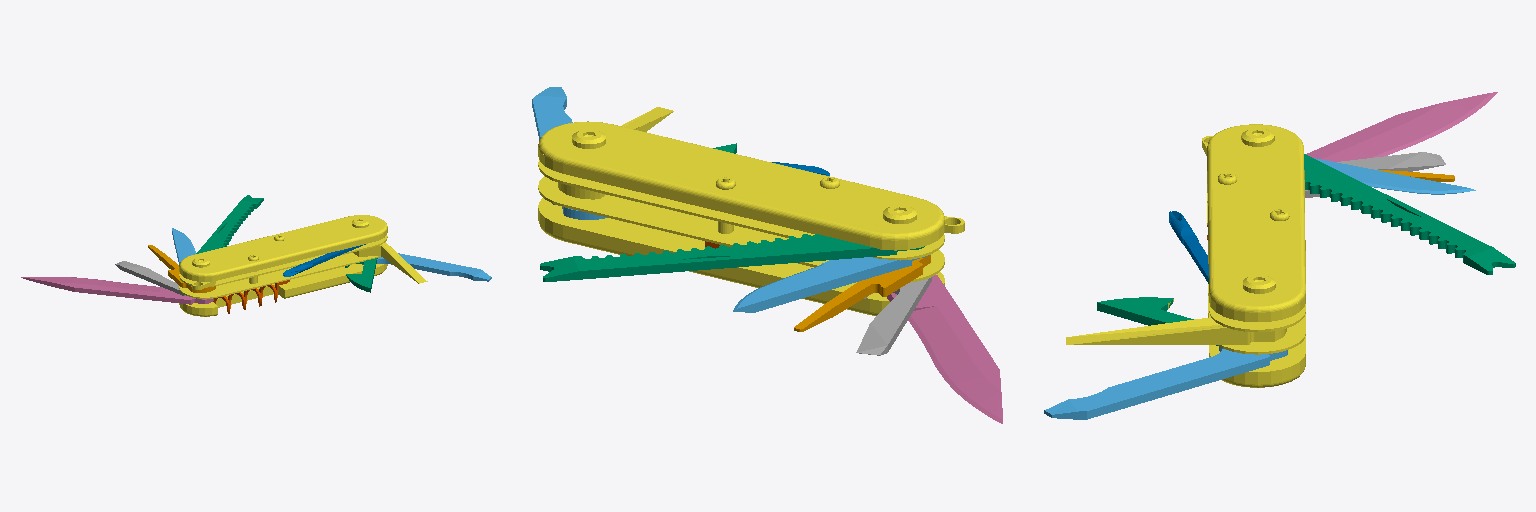
--- Render facts (derived) ---
3 views of the same robot in one strip: view 1: azimuth 30°, elevation 25°; view 2: azimuth 150°, elevation 25°; view 3: azimuth 270°, elevation 25° (orthographic).
Model partnet_u4a66a4a2-e061-4e17-b24d-4162d04032a5 with 12 links and 11 joints (10 revolute, 1 fixed), rooted at base, posed every joint at zero.
Links seen in each view (by area): view 1: link_10, link_5, link_9, link_0, link_2, link_6, link_1, link_7; view 2: link_10, link_9, link_5, link_8, link_6, link_7, link_0, link_2; view 3: link_10, link_9, link_0, link_5, link_2, link_8, link_1, link_6, link_3.
Boxes of the visible links, x1,y1,x2,y2 form: link_10: (179, 215, 387, 316); link_5: (21, 277, 213, 304); link_9: (196, 195, 263, 253); link_0: (362, 253, 491, 281); link_2: (353, 242, 427, 283); link_6: (115, 261, 196, 298); link_1: (345, 258, 377, 292); link_7: (148, 245, 215, 292); link_10: (538, 121, 964, 315); link_9: (540, 234, 924, 281); link_5: (887, 275, 1002, 423); link_8: (733, 255, 928, 312); link_6: (856, 277, 931, 355); link_7: (794, 255, 930, 331); link_0: (532, 87, 606, 219); link_2: (558, 107, 673, 199); link_10: (1168, 124, 1305, 387); link_9: (1304, 154, 1515, 274); link_0: (1044, 347, 1287, 419); link_5: (1306, 92, 1497, 161); link_2: (1066, 316, 1286, 344); link_8: (1314, 158, 1475, 194); link_1: (1097, 297, 1217, 345); link_6: (1305, 152, 1445, 197); link_3: (1169, 211, 1208, 283).
Size in the robot's own frame: 1.84 by 1.13 by 0.2544 metres.
Meshes: 110 distinct files referenced, 110 mesh visuals loaded (110 OBJ).

robot.urdf — partnet_u4a66a4a2-e061-4e17-b24d-4162d04032a5:
<?xml version="1.0" ?>
<robot name="partnet_u4a66a4a2-e061-4e17-b24d-4162d04032a5">
	<link name="base"/>
	<link name="link_0">
		<visual name="rotation_blade-1">
			<origin xyz="-0.010703543155122786 -0.11609877581711592 0.4344354670820575"/>
			<geometry>
				<mesh filename="textured_objs/original-68.obj"/>
			</geometry>
		</visual>
		<collision>
			<origin xyz="-0.010703543155122786 -0.11609877581711592 0.4344354670820575"/>
			<geometry>
				<mesh filename="textured_objs/original-68.obj"/>
			</geometry>
		</collision>
	</link>
	<joint name="joint_0" type="revolute">
		<origin xyz="0.010703543155122786 0.11609877581711592 -0.4344354670820575"/>
		<axis xyz="0 1 0"/>
		<child link="link_0"/>
		<parent link="link_10"/>
		<limit lower="-2.1865484868984955" upper="3.64424747816416"/>
	</joint>
	<link name="link_1">
		<visual name="rotation_blade-2">
			<origin xyz="-0.010703543155122786 -0.11609877581711592 0.4344354670820575"/>
			<geometry>
				<mesh filename="textured_objs/original-70.obj"/>
			</geometry>
		</visual>
		<collision>
			<origin xyz="-0.010703543155122786 -0.11609877581711592 0.4344354670820575"/>
			<geometry>
				<mesh filename="textured_objs/original-70.obj"/>
			</geometry>
		</collision>
	</link>
	<joint name="joint_1" type="revolute">
		<origin xyz="0.010703543155122786 0.11609877581711592 -0.4344354670820575"/>
		<axis xyz="0 1 0"/>
		<child link="link_1"/>
		<parent link="link_10"/>
		<limit lower="-0.8293804605477051" upper="4.806636759992383"/>
	</joint>
	<link name="link_2">
		<visual name="rotation_blade-3">
			<origin xyz="-0.010703543155122786 -0.11609877581711592 0.4344354670820575"/>
			<geometry>
				<mesh filename="textured_objs/original-67.obj"/>
			</geometry>
		</visual>
		<visual name="rotation_blade-3">
			<origin xyz="-0.010703543155122786 -0.11609877581711592 0.4344354670820575"/>
			<geometry>
				<mesh filename="textured_objs/original-65.obj"/>
			</geometry>
		</visual>
		<visual name="rotation_blade-3">
			<origin xyz="-0.010703543155122786 -0.11609877581711592 0.4344354670820575"/>
			<geometry>
				<mesh filename="textured_objs/original-66.obj"/>
			</geometry>
		</visual>
		<collision>
			<origin xyz="-0.010703543155122786 -0.11609877581711592 0.4344354670820575"/>
			<geometry>
				<mesh filename="textured_objs/original-67.obj"/>
			</geometry>
		</collision>
		<collision>
			<origin xyz="-0.010703543155122786 -0.11609877581711592 0.4344354670820575"/>
			<geometry>
				<mesh filename="textured_objs/original-65.obj"/>
			</geometry>
		</collision>
		<collision>
			<origin xyz="-0.010703543155122786 -0.11609877581711592 0.4344354670820575"/>
			<geometry>
				<mesh filename="textured_objs/original-66.obj"/>
			</geometry>
		</collision>
	</link>
	<joint name="joint_2" type="revolute">
		<origin xyz="0.010703543155122786 0.11609877581711592 -0.4344354670820575"/>
		<axis xyz="0 1 0"/>
		<child link="link_2"/>
		<parent link="link_10"/>
		<limit lower="-1.5770795121020764" upper="4.329114676646735"/>
	</joint>
	<link name="link_3">
		<visual name="rotation_blade-4">
			<origin xyz="-0.010703543155122786 -0.11609877581711592 0.4344354670820575"/>
			<geometry>
				<mesh filename="textured_objs/original-77.obj"/>
			</geometry>
		</visual>
		<visual name="rotation_blade-4">
			<origin xyz="-0.010703543155122786 -0.11609877581711592 0.4344354670820575"/>
			<geometry>
				<mesh filename="textured_objs/original-88.obj"/>
			</geometry>
		</visual>
		<visual name="rotation_blade-4">
			<origin xyz="-0.010703543155122786 -0.11609877581711592 0.4344354670820575"/>
			<geometry>
				<mesh filename="textured_objs/original-80.obj"/>
			</geometry>
		</visual>
		<visual name="rotation_blade-4">
			<origin xyz="-0.010703543155122786 -0.11609877581711592 0.4344354670820575"/>
			<geometry>
				<mesh filename="textured_objs/original-84.obj"/>
			</geometry>
		</visual>
		<visual name="rotation_blade-4">
			<origin xyz="-0.010703543155122786 -0.11609877581711592 0.4344354670820575"/>
			<geometry>
				<mesh filename="textured_objs/original-89.obj"/>
			</geometry>
		</visual>
		<visual name="rotation_blade-4">
			<origin xyz="-0.010703543155122786 -0.11609877581711592 0.4344354670820575"/>
			<geometry>
				<mesh filename="textured_objs/original-81.obj"/>
			</geometry>
		</visual>
		<visual name="rotation_blade-4">
			<origin xyz="-0.010703543155122786 -0.11609877581711592 0.4344354670820575"/>
			<geometry>
				<mesh filename="textured_objs/original-86.obj"/>
			</geometry>
		</visual>
		<visual name="rotation_blade-4">
			<origin xyz="-0.010703543155122786 -0.11609877581711592 0.4344354670820575"/>
			<geometry>
				<mesh filename="textured_objs/original-85.obj"/>
			</geometry>
		</visual>
		<visual name="rotation_blade-4">
			<origin xyz="-0.010703543155122786 -0.11609877581711592 0.4344354670820575"/>
			<geometry>
				<mesh filename="textured_objs/original-93.obj"/>
			</geometry>
		</visual>
		<visual name="rotation_blade-4">
			<origin xyz="-0.010703543155122786 -0.11609877581711592 0.4344354670820575"/>
			<geometry>
				<mesh filename="textured_objs/original-92.obj"/>
			</geometry>
		</visual>
		<visual name="rotation_blade-4">
			<origin xyz="-0.010703543155122786 -0.11609877581711592 0.4344354670820575"/>
			<geometry>
				<mesh filename="textured_objs/original-94.obj"/>
			</geometry>
		</visual>
		<visual name="rotation_blade-4">
			<origin xyz="-0.010703543155122786 -0.11609877581711592 0.4344354670820575"/>
			<geometry>
				<mesh filename="textured_objs/original-82.obj"/>
			</geometry>
		</visual>
		<visual name="rotation_blade-4">
			<origin xyz="-0.010703543155122786 -0.11609877581711592 0.4344354670820575"/>
			<geometry>
				<mesh filename="textured_objs/original-90.obj"/>
			</geometry>
		</visual>
		<visual name="rotation_blade-4">
			<origin xyz="-0.010703543155122786 -0.11609877581711592 0.4344354670820575"/>
			<geometry>
				<mesh filename="textured_objs/original-75.obj"/>
			</geometry>
		</visual>
		<visual name="rotation_blade-4">
			<origin xyz="-0.010703543155122786 -0.11609877581711592 0.4344354670820575"/>
			<geometry>
				<mesh filename="textured_objs/original-76.obj"/>
			</geometry>
		</visual>
		<visual name="rotation_blade-4">
			<origin xyz="-0.010703543155122786 -0.11609877581711592 0.4344354670820575"/>
			<geometry>
				<mesh filename="textured_objs/original-78.obj"/>
			</geometry>
		</visual>
		<collision>
			<origin xyz="-0.010703543155122786 -0.11609877581711592 0.4344354670820575"/>
			<geometry>
				<mesh filename="textured_objs/original-77.obj"/>
			</geometry>
		</collision>
		<collision>
			<origin xyz="-0.010703543155122786 -0.11609877581711592 0.4344354670820575"/>
			<geometry>
				<mesh filename="textured_objs/original-88.obj"/>
			</geometry>
		</collision>
		<collision>
			<origin xyz="-0.010703543155122786 -0.11609877581711592 0.4344354670820575"/>
			<geometry>
				<mesh filename="textured_objs/original-80.obj"/>
			</geometry>
		</collision>
		<collision>
			<origin xyz="-0.010703543155122786 -0.11609877581711592 0.4344354670820575"/>
			<geometry>
				<mesh filename="textured_objs/original-84.obj"/>
			</geometry>
		</collision>
		<collision>
			<origin xyz="-0.010703543155122786 -0.11609877581711592 0.4344354670820575"/>
			<geometry>
				<mesh filename="textured_objs/original-89.obj"/>
			</geometry>
		</collision>
		<collision>
			<origin xyz="-0.010703543155122786 -0.11609877581711592 0.4344354670820575"/>
			<geometry>
				<mesh filename="textured_objs/original-81.obj"/>
			</geometry>
		</collision>
		<collision>
			<origin xyz="-0.010703543155122786 -0.11609877581711592 0.4344354670820575"/>
			<geometry>
				<mesh filename="textured_objs/original-86.obj"/>
			</geometry>
		</collision>
		<collision>
			<origin xyz="-0.010703543155122786 -0.11609877581711592 0.4344354670820575"/>
			<geometry>
				<mesh filename="textured_objs/original-85.obj"/>
			</geometry>
		</collision>
		<collision>
			<origin xyz="-0.010703543155122786 -0.11609877581711592 0.4344354670820575"/>
			<geometry>
				<mesh filename="textured_objs/original-93.obj"/>
			</geometry>
		</collision>
		<collision>
			<origin xyz="-0.010703543155122786 -0.11609877581711592 0.4344354670820575"/>
			<geometry>
				<mesh filename="textured_objs/original-92.obj"/>
			</geometry>
		</collision>
		<collision>
			<origin xyz="-0.010703543155122786 -0.11609877581711592 0.4344354670820575"/>
			<geometry>
				<mesh filename="textured_objs/original-94.obj"/>
			</geometry>
		</collision>
		<collision>
			<origin xyz="-0.010703543155122786 -0.11609877581711592 0.4344354670820575"/>
			<geometry>
				<mesh filename="textured_objs/original-82.obj"/>
			</geometry>
		</collision>
		<collision>
			<origin xyz="-0.010703543155122786 -0.11609877581711592 0.4344354670820575"/>
			<geometry>
				<mesh filename="textured_objs/original-90.obj"/>
			</geometry>
		</collision>
		<collision>
			<origin xyz="-0.010703543155122786 -0.11609877581711592 0.4344354670820575"/>
			<geometry>
				<mesh filename="textured_objs/original-75.obj"/>
			</geometry>
		</collision>
		<collision>
			<origin xyz="-0.010703543155122786 -0.11609877581711592 0.4344354670820575"/>
			<geometry>
				<mesh filename="textured_objs/original-76.obj"/>
			</geometry>
		</collision>
		<collision>
			<origin xyz="-0.010703543155122786 -0.11609877581711592 0.4344354670820575"/>
			<geometry>
				<mesh filename="textured_objs/original-78.obj"/>
			</geometry>
		</collision>
	</link>
	<joint name="joint_3" type="revolute">
		<origin xyz="0.010703543155122786 0.11609877581711592 -0.4344354670820575"/>
		<axis xyz="0 1 0"/>
		<child link="link_3"/>
		<parent link="link_10"/>
		<limit lower="-0.20106192982974644" upper="5.610884479311371"/>
	</joint>
	<link name="link_4">
		<visual name="rotation_blade-5">
			<origin xyz="-0.08796387043165478 -0.10736199999999996 -0.04137884662214304"/>
			<geometry>
				<mesh filename="textured_objs/original-148.obj"/>
			</geometry>
		</visual>
		<visual name="rotation_blade-5">
			<origin xyz="-0.08796387043165478 -0.10736199999999996 -0.04137884662214304"/>
			<geometry>
				<mesh filename="textured_objs/original-150.obj"/>
			</geometry>
		</visual>
		<visual name="rotation_blade-5">
			<origin xyz="-0.08796387043165478 -0.10736199999999996 -0.04137884662214304"/>
			<geometry>
				<mesh filename="textured_objs/original-146.obj"/>
			</geometry>
		</visual>
		<collision>
			<origin xyz="-0.08796387043165478 -0.10736199999999996 -0.04137884662214304"/>
			<geometry>
				<mesh filename="textured_objs/original-148.obj"/>
			</geometry>
		</collision>
		<collision>
			<origin xyz="-0.08796387043165478 -0.10736199999999996 -0.04137884662214304"/>
			<geometry>
				<mesh filename="textured_objs/original-150.obj"/>
			</geometry>
		</collision>
		<collision>
			<origin xyz="-0.08796387043165478 -0.10736199999999996 -0.04137884662214304"/>
			<geometry>
				<mesh filename="textured_objs/original-146.obj"/>
			</geometry>
		</collision>
	</link>
	<joint name="joint_4" type="revolute">
		<origin xyz="0.08796387043165478 0.10736199999999996 0.04137884662214304"/>
		<axis xyz="0 1 0"/>
		<child link="link_4"/>
		<parent link="link_10"/>
		<limit lower="0.0" upper="1.5770795121020762"/>
	</joint>
	<link name="link_5">
		<visual name="rotation_blade-6">
			<origin xyz="-0.029843567787811942 -0.11647833007907682 -0.4003582692421145"/>
			<geometry>
				<mesh filename="textured_objs/original-14.obj"/>
			</geometry>
		</visual>
		<visual name="rotation_blade-6">
			<origin xyz="-0.029843567787811942 -0.11647833007907682 -0.4003582692421145"/>
			<geometry>
				<mesh filename="textured_objs/original-15.obj"/>
			</geometry>
		</visual>
		<collision>
			<origin xyz="-0.029843567787811942 -0.11647833007907682 -0.4003582692421145"/>
			<geometry>
				<mesh filename="textured_objs/original-14.obj"/>
			</geometry>
		</collision>
		<collision>
			<origin xyz="-0.029843567787811942 -0.11647833007907682 -0.4003582692421145"/>
			<geometry>
				<mesh filename="textured_objs/original-15.obj"/>
			</geometry>
		</collision>
	</link>
	<joint name="joint_5" type="revolute">
		<origin xyz="0.029843567787811942 0.11647833007907682 0.4003582692421145"/>
		<axis xyz="0 1 0"/>
		<child link="link_5"/>
		<parent link="link_10"/>
		<limit lower="-2.2870794518133692" upper="2.086017521983623"/>
	</joint>
	<link name="link_6">
		<visual name="rotation_blade-7">
			<origin xyz="-0.029843567787811942 -0.11647833007907682 -0.4003582692421145"/>
			<geometry>
				<mesh filename="textured_objs/original-11.obj"/>
			</geometry>
		</visual>
		<collision>
			<origin xyz="-0.029843567787811942 -0.11647833007907682 -0.4003582692421145"/>
			<geometry>
				<mesh filename="textured_objs/original-11.obj"/>
			</geometry>
		</collision>
	</link>
	<joint name="joint_6" type="revolute">
		<origin xyz="0.029843567787811942 0.11647833007907682 0.4003582692421145"/>
		<axis xyz="0 1 0"/>
		<child link="link_6"/>
		<parent link="link_10"/>
		<limit lower="-1.7592918860102844" upper="2.086017521983623"/>
	</joint>
	<link name="link_7">
		<visual name="rotation_blade-8">
			<origin xyz="-0.029843567787811942 -0.11647833007907682 -0.4003582692421145"/>
			<geometry>
				<mesh filename="textured_objs/original-9.obj"/>
			</geometry>
		</visual>
		<collision>
			<origin xyz="-0.029843567787811942 -0.11647833007907682 -0.4003582692421145"/>
			<geometry>
				<mesh filename="textured_objs/original-9.obj"/>
			</geometry>
		</collision>
	</link>
	<joint name="joint_7" type="revolute">
		<origin xyz="0.029843567787811942 0.11647833007907682 0.4003582692421145"/>
		<axis xyz="0 1 0"/>
		<child link="link_7"/>
		<parent link="link_10"/>
		<limit lower="-1.306902543893354" upper="4.1469023027385274"/>
	</joint>
	<link name="link_8">
		<visual name="rotation_blade-9">
			<origin xyz="-0.029843567787811942 -0.11647833007907682 -0.4003582692421145"/>
			<geometry>
				<mesh filename="textured_objs/original-7.obj"/>
			</geometry>
		</visual>
		<visual name="rotation_blade-9">
			<origin xyz="-0.029843567787811942 -0.11647833007907682 -0.4003582692421145"/>
			<geometry>
				<mesh filename="textured_objs/original-8.obj"/>
			</geometry>
		</visual>
		<collision>
			<origin xyz="-0.029843567787811942 -0.11647833007907682 -0.4003582692421145"/>
			<geometry>
				<mesh filename="textured_objs/original-7.obj"/>
			</geometry>
		</collision>
		<collision>
			<origin xyz="-0.029843567787811942 -0.11647833007907682 -0.4003582692421145"/>
			<geometry>
				<mesh filename="textured_objs/original-8.obj"/>
			</geometry>
		</collision>
	</link>
	<joint name="joint_8" type="revolute">
		<origin xyz="0.029843567787811942 0.11647833007907682 0.4003582692421145"/>
		<axis xyz="0 1 0"/>
		<child link="link_8"/>
		<parent link="link_10"/>
		<limit lower="-1.0995574287564276" upper="4.341681047261094"/>
	</joint>
	<link name="link_9">
		<visual name="rotation_blade-10">
			<origin xyz="-0.029843567787811942 -0.11647833007907682 -0.4003582692421145"/>
			<geometry>
				<mesh filename="textured_objs/original-4.obj"/>
			</geometry>
		</visual>
		<visual name="rotation_blade-10">
			<origin xyz="-0.029843567787811942 -0.11647833007907682 -0.4003582692421145"/>
			<geometry>
				<mesh filename="textured_objs/original-5.obj"/>
			</geometry>
		</visual>
		<collision>
			<origin xyz="-0.029843567787811942 -0.11647833007907682 -0.4003582692421145"/>
			<geometry>
				<mesh filename="textured_objs/original-4.obj"/>
			</geometry>
		</collision>
		<collision>
			<origin xyz="-0.029843567787811942 -0.11647833007907682 -0.4003582692421145"/>
			<geometry>
				<mesh filename="textured_objs/original-5.obj"/>
			</geometry>
		</collision>
	</link>
	<joint name="joint_9" type="revolute">
		<origin xyz="0.029843567787811942 0.11647833007907682 0.4003582692421145"/>
		<axis xyz="0 1 0"/>
		<child link="link_9"/>
		<parent link="link_10"/>
		<limit lower="-0.7539822368615502" upper="4.894601354292898"/>
	</joint>
	<link name="link_10">
		<visual name="base_body-11">
			<origin xyz="0 0 0"/>
			<geometry>
				<mesh filename="textured_objs/original-29.obj"/>
			</geometry>
		</visual>
		<visual name="base_body-11">
			<origin xyz="0 0 0"/>
			<geometry>
				<mesh filename="textured_objs/original-103.obj"/>
			</geometry>
		</visual>
		<visual name="base_body-11">
			<origin xyz="0 0 0"/>
			<geometry>
				<mesh filename="textured_objs/original-123.obj"/>
			</geometry>
		</visual>
		<visual name="base_body-11">
			<origin xyz="0 0 0"/>
			<geometry>
				<mesh filename="textured_objs/original-21.obj"/>
			</geometry>
		</visual>
		<visual name="base_body-11">
			<origin xyz="0 0 0"/>
			<geometry>
				<mesh filename="textured_objs/original-30.obj"/>
			</geometry>
		</visual>
		<visual name="base_body-11">
			<origin xyz="0 0 0"/>
			<geometry>
				<mesh filename="textured_objs/original-36.obj"/>
			</geometry>
		</visual>
		<visual name="base_body-11">
			<origin xyz="0 0 0"/>
			<geometry>
				<mesh filename="textured_objs/original-119.obj"/>
			</geometry>
		</visual>
		<visual name="base_body-11">
			<origin xyz="0 0 0"/>
			<geometry>
				<mesh filename="textured_objs/original-124.obj"/>
			</geometry>
		</visual>
		<visual name="base_body-11">
			<origin xyz="0 0 0"/>
			<geometry>
				<mesh filename="textured_objs/original-96.obj"/>
			</geometry>
		</visual>
		<visual name="base_body-11">
			<origin xyz="0 0 0"/>
			<geometry>
				<mesh filename="textured_objs/original-134.obj"/>
			</geometry>
		</visual>
		<visual name="base_body-11">
			<origin xyz="0 0 0"/>
			<geometry>
				<mesh filename="textured_objs/original-43.obj"/>
			</geometry>
		</visual>
		<visual name="base_body-11">
			<origin xyz="0 0 0"/>
			<geometry>
				<mesh filename="textured_objs/original-71.obj"/>
			</geometry>
		</visual>
		<visual name="base_body-11">
			<origin xyz="0 0 0"/>
			<geometry>
				<mesh filename="textured_objs/original-52.obj"/>
			</geometry>
		</visual>
		<visual name="base_body-11">
			<origin xyz="0 0 0"/>
			<geometry>
				<mesh filename="textured_objs/original-26.obj"/>
			</geometry>
		</visual>
		<visual name="base_body-11">
			<origin xyz="0 0 0"/>
			<geometry>
				<mesh filename="textured_objs/original-117.obj"/>
			</geometry>
		</visual>
		<visual name="base_body-11">
			<origin xyz="0 0 0"/>
			<geometry>
				<mesh filename="textured_objs/original-110.obj"/>
			</geometry>
		</visual>
		<visual name="base_body-11">
			<origin xyz="0 0 0"/>
			<geometry>
				<mesh filename="textured_objs/original-107.obj"/>
			</geometry>
		</visual>
		<visual name="base_body-11">
			<origin xyz="0 0 0"/>
			<geometry>
				<mesh filename="textured_objs/original-104.obj"/>
			</geometry>
		</visual>
		<visual name="base_body-11">
			<origin xyz="0 0 0"/>
			<geometry>
				<mesh filename="textured_objs/original-149.obj"/>
			</geometry>
		</visual>
		<visual name="base_body-11">
			<origin xyz="0 0 0"/>
			<geometry>
				<mesh filename="textured_objs/original-128.obj"/>
			</geometry>
		</visual>
		<visual name="base_body-11">
			<origin xyz="0 0 0"/>
			<geometry>
				<mesh filename="textured_objs/original-33.obj"/>
			</geometry>
		</visual>
		<visual name="base_body-11">
			<origin xyz="0 0 0"/>
			<geometry>
				<mesh filename="textured_objs/original-130.obj"/>
			</geometry>
		</visual>
		<visual name="base_body-11">
			<origin xyz="0 0 0"/>
			<geometry>
				<mesh filename="textured_objs/original-137.obj"/>
			</geometry>
		</visual>
		<visual name="base_body-11">
			<origin xyz="0 0 0"/>
			<geometry>
				<mesh filename="textured_objs/original-139.obj"/>
			</geometry>
		</visual>
		<visual name="base_body-11">
			<origin xyz="0 0 0"/>
			<geometry>
				<mesh filename="textured_objs/original-112.obj"/>
			</geometry>
		</visual>
		<visual name="base_body-11">
			<origin xyz="0 0 0"/>
			<geometry>
				<mesh filename="textured_objs/original-106.obj"/>
			</geometry>
		</visual>
		<visual name="base_body-11">
			<origin xyz="0 0 0"/>
			<geometry>
				<mesh filename="textured_objs/original-140.obj"/>
			</geometry>
		</visual>
		<visual name="base_body-11">
			<origin xyz="0 0 0"/>
			<geometry>
				<mesh filename="textured_objs/original-147.obj"/>
			</geometry>
		</visual>
		<visual name="base_body-11">
			<origin xyz="0 0 0"/>
			<geometry>
				<mesh filename="textured_objs/original-109.obj"/>
			</geometry>
		</visual>
		<visual name="base_body-11">
			<origin xyz="0 0 0"/>
			<geometry>
				<mesh filename="textured_objs/original-125.obj"/>
			</geometry>
		</visual>
		<visual name="base_body-11">
			<origin xyz="0 0 0"/>
			<geometry>
				<mesh filename="textured_objs/original-45.obj"/>
			</geometry>
		</visual>
		<visual name="base_body-11">
			<origin xyz="0 0 0"/>
			<geometry>
				<mesh filename="textured_objs/original-138.obj"/>
			</geometry>
		</visual>
		<visual name="base_body-11">
			<origin xyz="0 0 0"/>
			<geometry>
				<mesh filename="textured_objs/original-49.obj"/>
			</geometry>
		</visual>
		<visual name="base_body-11">
			<origin xyz="0 0 0"/>
			<geometry>
				<mesh filename="textured_objs/original-61.obj"/>
			</geometry>
		</visual>
		<visual name="base_body-11">
			<origin xyz="0 0 0"/>
			<geometry>
				<mesh filename="textured_objs/original-144.obj"/>
			</geometry>
		</visual>
		<visual name="base_body-11">
			<origin xyz="0 0 0"/>
			<geometry>
				<mesh filename="textured_objs/original-39.obj"/>
			</geometry>
		</visual>
		<visual name="base_body-11">
			<origin xyz="0 0 0"/>
			<geometry>
				<mesh filename="textured_objs/original-120.obj"/>
			</geometry>
		</visual>
		<visual name="base_body-11">
			<origin xyz="0 0 0"/>
			<geometry>
				<mesh filename="textured_objs/original-114.obj"/>
			</geometry>
		</visual>
		<visual name="base_body-11">
			<origin xyz="0 0 0"/>
			<geometry>
				<mesh filename="textured_objs/original-54.obj"/>
			</geometry>
		</visual>
		<visual name="base_body-11">
			<origin xyz="0 0 0"/>
			<geometry>
				<mesh filename="textured_objs/original-63.obj"/>
			</geometry>
		</visual>
		<visual name="base_body-11">
			<origin xyz="0 0 0"/>
			<geometry>
				<mesh filename="textured_objs/original-27.obj"/>
			</geometry>
		</visual>
		<visual name="base_body-11">
			<origin xyz="0 0 0"/>
			<geometry>
				<mesh filename="textured_objs/original-51.obj"/>
			</geometry>
		</visual>
		<visual name="base_body-11">
			<origin xyz="0 0 0"/>
			<geometry>
				<mesh filename="textured_objs/original-55.obj"/>
			</geometry>
		</visual>
		<visual name="base_body-11">
			<origin xyz="0 0 0"/>
			<geometry>
				<mesh filename="textured_objs/original-141.obj"/>
			</geometry>
		</visual>
		<visual name="base_body-11">
			<origin xyz="0 0 0"/>
			<geometry>
				<mesh filename="textured_objs/original-111.obj"/>
			</geometry>
		</visual>
		<visual name="base_body-11">
			<origin xyz="0 0 0"/>
			<geometry>
				<mesh filename="textured_objs/original-37.obj"/>
			</geometry>
		</visual>
		<visual name="base_body-11">
			<origin xyz="0 0 0"/>
			<geometry>
				<mesh filename="textured_objs/original-48.obj"/>
			</geometry>
		</visual>
		<visual name="base_body-11">
			<origin xyz="0 0 0"/>
			<geometry>
				<mesh filename="textured_objs/original-116.obj"/>
			</geometry>
		</visual>
		<visual name="base_body-11">
			<origin xyz="0 0 0"/>
			<geometry>
				<mesh filename="textured_objs/original-122.obj"/>
			</geometry>
		</visual>
		<visual name="base_body-11">
			<origin xyz="0 0 0"/>
			<geometry>
				<mesh filename="textured_objs/original-72.obj"/>
			</geometry>
		</visual>
		<visual name="base_body-11">
			<origin xyz="0 0 0"/>
			<geometry>
				<mesh filename="textured_objs/original-99.obj"/>
			</geometry>
		</visual>
		<visual name="base_body-11">
			<origin xyz="0 0 0"/>
			<geometry>
				<mesh filename="textured_objs/original-136.obj"/>
			</geometry>
		</visual>
		<visual name="base_body-11">
			<origin xyz="0 0 0"/>
			<geometry>
				<mesh filename="textured_objs/original-127.obj"/>
			</geometry>
		</visual>
		<visual name="base_body-11">
			<origin xyz="0 0 0"/>
			<geometry>
				<mesh filename="textured_objs/original-62.obj"/>
			</geometry>
		</visual>
		<visual name="base_body-11">
			<origin xyz="0 0 0"/>
			<geometry>
				<mesh filename="textured_objs/original-133.obj"/>
			</geometry>
		</visual>
		<visual name="base_body-11">
			<origin xyz="0 0 0"/>
			<geometry>
				<mesh filename="textured_objs/original-23.obj"/>
			</geometry>
		</visual>
		<visual name="base_body-11">
			<origin xyz="0 0 0"/>
			<geometry>
				<mesh filename="textured_objs/original-58.obj"/>
			</geometry>
		</visual>
		<visual name="base_body-11">
			<origin xyz="0 0 0"/>
			<geometry>
				<mesh filename="textured_objs/original-98.obj"/>
			</geometry>
		</visual>
		<visual name="base_body-11">
			<origin xyz="0 0 0"/>
			<geometry>
				<mesh filename="textured_objs/original-131.obj"/>
			</geometry>
		</visual>
		<visual name="base_body-11">
			<origin xyz="0 0 0"/>
			<geometry>
				<mesh filename="textured_objs/original-18.obj"/>
			</geometry>
		</visual>
		<visual name="base_body-11">
			<origin xyz="0 0 0"/>
			<geometry>
				<mesh filename="textured_objs/original-17.obj"/>
			</geometry>
		</visual>
		<visual name="base_body-11">
			<origin xyz="0 0 0"/>
			<geometry>
				<mesh filename="textured_objs/original-73.obj"/>
			</geometry>
		</visual>
		<visual name="base_body-11">
			<origin xyz="0 0 0"/>
			<geometry>
				<mesh filename="textured_objs/original-12.obj"/>
			</geometry>
		</visual>
		<visual name="base_body-11">
			<origin xyz="0 0 0"/>
			<geometry>
				<mesh filename="textured_objs/original-142.obj"/>
			</geometry>
		</visual>
		<visual name="base_body-11">
			<origin xyz="0 0 0"/>
			<geometry>
				<mesh filename="textured_objs/original-42.obj"/>
			</geometry>
		</visual>
		<visual name="base_body-11">
			<origin xyz="0 0 0"/>
			<geometry>
				<mesh filename="textured_objs/original-102.obj"/>
			</geometry>
		</visual>
		<visual name="base_body-11">
			<origin xyz="0 0 0"/>
			<geometry>
				<mesh filename="textured_objs/original-24.obj"/>
			</geometry>
		</visual>
		<visual name="base_body-11">
			<origin xyz="0 0 0"/>
			<geometry>
				<mesh filename="textured_objs/original-20.obj"/>
			</geometry>
		</visual>
		<visual name="base_body-11">
			<origin xyz="0 0 0"/>
			<geometry>
				<mesh filename="textured_objs/original-115.obj"/>
			</geometry>
		</visual>
		<visual name="base_body-11">
			<origin xyz="0 0 0"/>
			<geometry>
				<mesh filename="textured_objs/original-32.obj"/>
			</geometry>
		</visual>
		<visual name="base_body-11">
			<origin xyz="0 0 0"/>
			<geometry>
				<mesh filename="textured_objs/original-101.obj"/>
			</geometry>
		</visual>
		<visual name="base_body-11">
			<origin xyz="0 0 0"/>
			<geometry>
				<mesh filename="textured_objs/original-121.obj"/>
			</geometry>
		</visual>
		<visual name="base_body-11">
			<origin xyz="0 0 0"/>
			<geometry>
				<mesh filename="textured_objs/original-97.obj"/>
			</geometry>
		</visual>
		<visual name="base_body-11">
			<origin xyz="0 0 0"/>
			<geometry>
				<mesh filename="textured_objs/original-60.obj"/>
			</geometry>
		</visual>
		<visual name="base_body-11">
			<origin xyz="0 0 0"/>
			<geometry>
				<mesh filename="textured_objs/original-40.obj"/>
			</geometry>
		</visual>
		<visual name="base_body-11">
			<origin xyz="0 0 0"/>
			<geometry>
				<mesh filename="textured_objs/original-143.obj"/>
			</geometry>
		</visual>
		<visual name="base_body-11">
			<origin xyz="0 0 0"/>
			<geometry>
				<mesh filename="textured_objs/original-46.obj"/>
			</geometry>
		</visual>
		<visual name="base_body-11">
			<origin xyz="0 0 0"/>
			<geometry>
				<mesh filename="textured_objs/original-57.obj"/>
			</geometry>
		</visual>
		<collision>
			<origin xyz="0 0 0"/>
			<geometry>
				<mesh filename="textured_objs/original-29.obj"/>
			</geometry>
		</collision>
		<collision>
			<origin xyz="0 0 0"/>
			<geometry>
				<mesh filename="textured_objs/original-103.obj"/>
			</geometry>
		</collision>
		<collision>
			<origin xyz="0 0 0"/>
			<geometry>
				<mesh filename="textured_objs/original-123.obj"/>
			</geometry>
		</collision>
		<collision>
			<origin xyz="0 0 0"/>
			<geometry>
				<mesh filename="textured_objs/original-21.obj"/>
			</geometry>
		</collision>
		<collision>
			<origin xyz="0 0 0"/>
			<geometry>
				<mesh filename="textured_objs/original-30.obj"/>
			</geometry>
		</collision>
		<collision>
			<origin xyz="0 0 0"/>
			<geometry>
				<mesh filename="textured_objs/original-36.obj"/>
			</geometry>
		</collision>
		<collision>
			<origin xyz="0 0 0"/>
			<geometry>
				<mesh filename="textured_objs/original-119.obj"/>
			</geometry>
		</collision>
		<collision>
			<origin xyz="0 0 0"/>
			<geometry>
				<mesh filename="textured_objs/original-124.obj"/>
			</geometry>
		</collision>
		<collision>
			<origin xyz="0 0 0"/>
			<geometry>
				<mesh filename="textured_objs/original-96.obj"/>
			</geometry>
		</collision>
		<collision>
			<origin xyz="0 0 0"/>
			<geometry>
				<mesh filename="textured_objs/original-134.obj"/>
			</geometry>
		</collision>
		<collision>
			<origin xyz="0 0 0"/>
			<geometry>
				<mesh filename="textured_objs/original-43.obj"/>
			</geometry>
		</collision>
		<collision>
			<origin xyz="0 0 0"/>
			<geometry>
				<mesh filename="textured_objs/original-71.obj"/>
			</geometry>
		</collision>
		<collision>
			<origin xyz="0 0 0"/>
			<geometry>
				<mesh filename="textured_objs/original-52.obj"/>
			</geometry>
		</collision>
		<collision>
			<origin xyz="0 0 0"/>
			<geometry>
				<mesh filename="textured_objs/original-26.obj"/>
			</geometry>
		</collision>
		<collision>
			<origin xyz="0 0 0"/>
			<geometry>
				<mesh filename="textured_objs/original-117.obj"/>
			</geometry>
		</collision>
		<collision>
			<origin xyz="0 0 0"/>
			<geometry>
				<mesh filename="textured_objs/original-110.obj"/>
			</geometry>
		</collision>
		<collision>
			<origin xyz="0 0 0"/>
			<geometry>
				<mesh filename="textured_objs/original-107.obj"/>
			</geometry>
		</collision>
		<collision>
			<origin xyz="0 0 0"/>
			<geometry>
				<mesh filename="textured_objs/original-104.obj"/>
			</geometry>
		</collision>
		<collision>
			<origin xyz="0 0 0"/>
			<geometry>
				<mesh filename="textured_objs/original-149.obj"/>
			</geometry>
		</collision>
		<collision>
			<origin xyz="0 0 0"/>
			<geometry>
				<mesh filename="textured_objs/original-128.obj"/>
			</geometry>
		</collision>
		<collision>
			<origin xyz="0 0 0"/>
			<geometry>
				<mesh filename="textured_objs/original-33.obj"/>
			</geometry>
		</collision>
		<collision>
			<origin xyz="0 0 0"/>
			<geometry>
				<mesh filename="textured_objs/original-130.obj"/>
			</geometry>
		</collision>
		<collision>
			<origin xyz="0 0 0"/>
			<geometry>
				<mesh filename="textured_objs/original-137.obj"/>
			</geometry>
		</collision>
		<collision>
			<origin xyz="0 0 0"/>
			<geometry>
				<mesh filename="textured_objs/original-139.obj"/>
			</geometry>
		</collision>
		<collision>
			<origin xyz="0 0 0"/>
			<geometry>
				<mesh filename="textured_objs/original-112.obj"/>
			</geometry>
		</collision>
		<collision>
			<origin xyz="0 0 0"/>
			<geometry>
				<mesh filename="textured_objs/original-106.obj"/>
			</geometry>
		</collision>
		<collision>
			<origin xyz="0 0 0"/>
			<geometry>
				<mesh filename="textured_objs/original-140.obj"/>
			</geometry>
		</collision>
		<collision>
			<origin xyz="0 0 0"/>
			<geometry>
				<mesh filename="textured_objs/original-147.obj"/>
			</geometry>
		</collision>
		<collision>
			<origin xyz="0 0 0"/>
			<geometry>
				<mesh filename="textured_objs/original-109.obj"/>
			</geometry>
		</collision>
		<collision>
			<origin xyz="0 0 0"/>
			<geometry>
				<mesh filename="textured_objs/original-125.obj"/>
			</geometry>
		</collision>
		<collision>
			<origin xyz="0 0 0"/>
			<geometry>
				<mesh filename="textured_objs/original-45.obj"/>
			</geometry>
		</collision>
		<collision>
			<origin xyz="0 0 0"/>
			<geometry>
				<mesh filename="textured_objs/original-138.obj"/>
			</geometry>
		</collision>
		<collision>
			<origin xyz="0 0 0"/>
			<geometry>
				<mesh filename="textured_objs/original-49.obj"/>
			</geometry>
		</collision>
		<collision>
			<origin xyz="0 0 0"/>
			<geometry>
				<mesh filename="textured_objs/original-61.obj"/>
			</geometry>
		</collision>
		<collision>
			<origin xyz="0 0 0"/>
			<geometry>
				<mesh filename="textured_objs/original-144.obj"/>
			</geometry>
		</collision>
		<collision>
			<origin xyz="0 0 0"/>
			<geometry>
				<mesh filename="textured_objs/original-39.obj"/>
			</geometry>
		</collision>
		<collision>
			<origin xyz="0 0 0"/>
			<geometry>
				<mesh filename="textured_objs/original-120.obj"/>
			</geometry>
		</collision>
		<collision>
			<origin xyz="0 0 0"/>
			<geometry>
				<mesh filename="textured_objs/original-114.obj"/>
			</geometry>
		</collision>
		<collision>
			<origin xyz="0 0 0"/>
			<geometry>
				<mesh filename="textured_objs/original-54.obj"/>
			</geometry>
		</collision>
		<collision>
			<origin xyz="0 0 0"/>
			<geometry>
				<mesh filename="textured_objs/original-63.obj"/>
			</geometry>
		</collision>
		<collision>
			<origin xyz="0 0 0"/>
			<geometry>
				<mesh filename="textured_objs/original-27.obj"/>
			</geometry>
		</collision>
		<collision>
			<origin xyz="0 0 0"/>
			<geometry>
				<mesh filename="textured_objs/original-51.obj"/>
			</geometry>
		</collision>
		<collision>
			<origin xyz="0 0 0"/>
			<geometry>
				<mesh filename="textured_objs/original-55.obj"/>
			</geometry>
		</collision>
		<collision>
			<origin xyz="0 0 0"/>
			<geometry>
				<mesh filename="textured_objs/original-141.obj"/>
			</geometry>
		</collision>
		<collision>
			<origin xyz="0 0 0"/>
			<geometry>
				<mesh filename="textured_objs/original-111.obj"/>
			</geometry>
		</collision>
		<collision>
			<origin xyz="0 0 0"/>
			<geometry>
				<mesh filename="textured_objs/original-37.obj"/>
			</geometry>
		</collision>
		<collision>
			<origin xyz="0 0 0"/>
			<geometry>
				<mesh filename="textured_objs/original-48.obj"/>
			</geometry>
		</collision>
		<collision>
			<origin xyz="0 0 0"/>
			<geometry>
				<mesh filename="textured_objs/original-116.obj"/>
			</geometry>
		</collision>
		<collision>
			<origin xyz="0 0 0"/>
			<geometry>
				<mesh filename="textured_objs/original-122.obj"/>
			</geometry>
		</collision>
		<collision>
			<origin xyz="0 0 0"/>
			<geometry>
				<mesh filename="textured_objs/original-72.obj"/>
			</geometry>
		</collision>
		<collision>
			<origin xyz="0 0 0"/>
			<geometry>
				<mesh filename="textured_objs/original-99.obj"/>
			</geometry>
		</collision>
		<collision>
			<origin xyz="0 0 0"/>
			<geometry>
				<mesh filename="textured_objs/original-136.obj"/>
			</geometry>
		</collision>
		<collision>
			<origin xyz="0 0 0"/>
			<geometry>
				<mesh filename="textured_objs/original-127.obj"/>
			</geometry>
		</collision>
		<collision>
			<origin xyz="0 0 0"/>
			<geometry>
				<mesh filename="textured_objs/original-62.obj"/>
			</geometry>
		</collision>
		<collision>
			<origin xyz="0 0 0"/>
			<geometry>
				<mesh filename="textured_objs/original-133.obj"/>
			</geometry>
		</collision>
		<collision>
			<origin xyz="0 0 0"/>
			<geometry>
				<mesh filename="textured_objs/original-23.obj"/>
			</geometry>
		</collision>
		<collision>
			<origin xyz="0 0 0"/>
			<geometry>
				<mesh filename="textured_objs/original-58.obj"/>
			</geometry>
		</collision>
		<collision>
			<origin xyz="0 0 0"/>
			<geometry>
				<mesh filename="textured_objs/original-98.obj"/>
			</geometry>
		</collision>
		<collision>
			<origin xyz="0 0 0"/>
			<geometry>
				<mesh filename="textured_objs/original-131.obj"/>
			</geometry>
		</collision>
		<collision>
			<origin xyz="0 0 0"/>
			<geometry>
				<mesh filename="textured_objs/original-18.obj"/>
			</geometry>
		</collision>
		<collision>
			<origin xyz="0 0 0"/>
			<geometry>
				<mesh filename="textured_objs/original-17.obj"/>
			</geometry>
		</collision>
		<collision>
			<origin xyz="0 0 0"/>
			<geometry>
				<mesh filename="textured_objs/original-73.obj"/>
			</geometry>
		</collision>
		<collision>
			<origin xyz="0 0 0"/>
			<geometry>
				<mesh filename="textured_objs/original-12.obj"/>
			</geometry>
		</collision>
		<collision>
			<origin xyz="0 0 0"/>
			<geometry>
				<mesh filename="textured_objs/original-142.obj"/>
			</geometry>
		</collision>
		<collision>
			<origin xyz="0 0 0"/>
			<geometry>
				<mesh filename="textured_objs/original-42.obj"/>
			</geometry>
		</collision>
		<collision>
			<origin xyz="0 0 0"/>
			<geometry>
				<mesh filename="textured_objs/original-102.obj"/>
			</geometry>
		</collision>
		<collision>
			<origin xyz="0 0 0"/>
			<geometry>
				<mesh filename="textured_objs/original-24.obj"/>
			</geometry>
		</collision>
		<collision>
			<origin xyz="0 0 0"/>
			<geometry>
				<mesh filename="textured_objs/original-20.obj"/>
			</geometry>
		</collision>
		<collision>
			<origin xyz="0 0 0"/>
			<geometry>
				<mesh filename="textured_objs/original-115.obj"/>
			</geometry>
		</collision>
		<collision>
			<origin xyz="0 0 0"/>
			<geometry>
				<mesh filename="textured_objs/original-32.obj"/>
			</geometry>
		</collision>
		<collision>
			<origin xyz="0 0 0"/>
			<geometry>
				<mesh filename="textured_objs/original-101.obj"/>
			</geometry>
		</collision>
		<collision>
			<origin xyz="0 0 0"/>
			<geometry>
				<mesh filename="textured_objs/original-121.obj"/>
			</geometry>
		</collision>
		<collision>
			<origin xyz="0 0 0"/>
			<geometry>
				<mesh filename="textured_objs/original-97.obj"/>
			</geometry>
		</collision>
		<collision>
			<origin xyz="0 0 0"/>
			<geometry>
				<mesh filename="textured_objs/original-60.obj"/>
			</geometry>
		</collision>
		<collision>
			<origin xyz="0 0 0"/>
			<geometry>
				<mesh filename="textured_objs/original-40.obj"/>
			</geometry>
		</collision>
		<collision>
			<origin xyz="0 0 0"/>
			<geometry>
				<mesh filename="textured_objs/original-143.obj"/>
			</geometry>
		</collision>
		<collision>
			<origin xyz="0 0 0"/>
			<geometry>
				<mesh filename="textured_objs/original-46.obj"/>
			</geometry>
		</collision>
		<collision>
			<origin xyz="0 0 0"/>
			<geometry>
				<mesh filename="textured_objs/original-57.obj"/>
			</geometry>
		</collision>
	</link>
	<joint name="joint_10" type="fixed">
		<origin rpy="1.570796326794897 0 -1.570796326794897" xyz="0 0 0"/>
		<child link="link_10"/>
		<parent link="base"/>
	</joint>
</robot>
